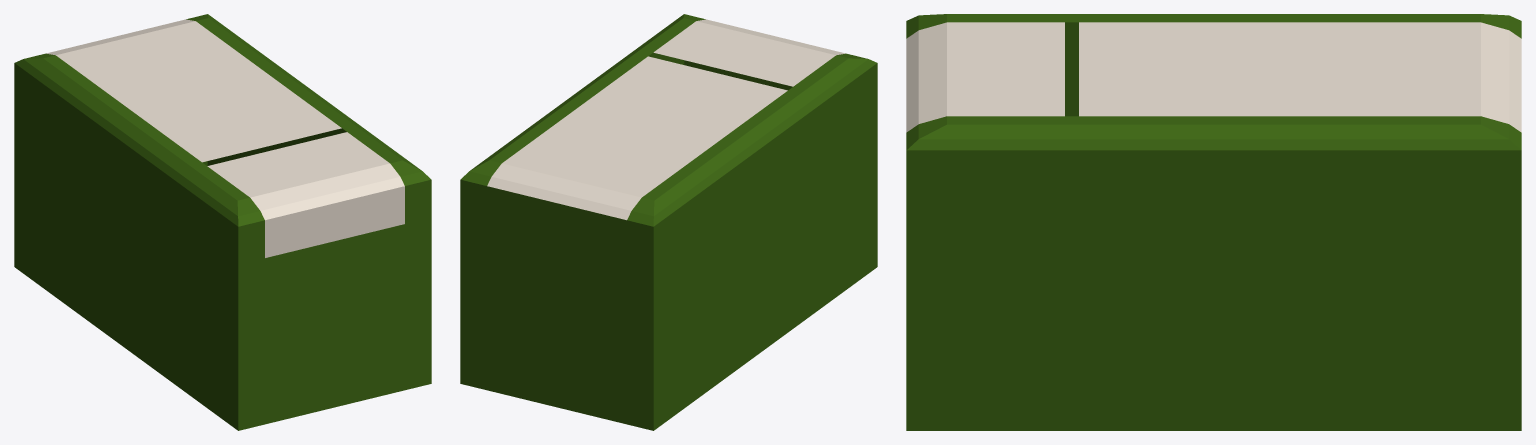
File: EraserCleaner.fbx
3 views of the same model, side by side, from view 1: azimuth 30°, elevation 25°; view 2: azimuth 150°, elevation 25°; view 3: azimuth 270°, elevation 25° (orthographic). The views are drawn at different scales.
Visible parts, largest first — view 1: 立方体.007; view 2: 立方体.007; view 3: 立方体.007.
Boxes of the visible parts, x1,y1,x2,y2 form: 立方体.007: [14, 14, 431, 430]; 立方体.007: [460, 14, 877, 430]; 立方体.007: [906, 14, 1521, 430].
Size of the model in its own units: 181 by 193 by 363.
